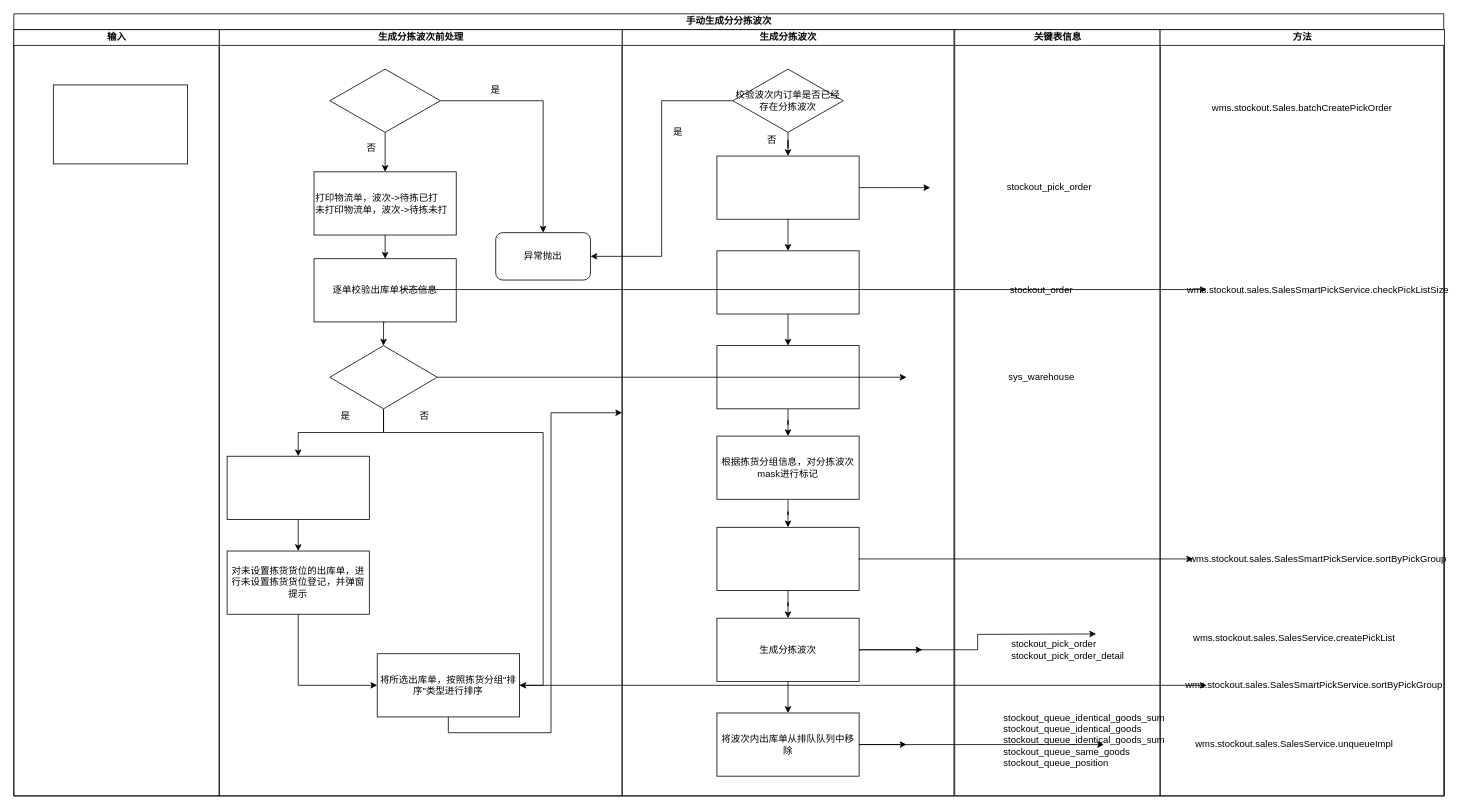
Some shapes in this 1462 by 810 pixel diagram are drawn without their labels. Each missing label, with the centre of its shape:
1. 出库单id列表 2. 仓库id 3. 拣货数量 4. 拣货员id 5. 货区id 6. 是否允许排队中单据 7. 是否打印了物流单: point (120, 124)
出库单拣货员、状态、拣货序号、波次序号、备注的填充: point (787, 377)
分拣波次拣货时间、拣货员的填充: point (787, 282)
将出库单列表按照拣货分组的“排序”类型进行排序: point (787, 559)
是否开智能拣货: point (383, 377)
根据所选出库单数量·，校验是否超出最大波次大小: point (384, 100)
自动生成波次序号: point (787, 187)
选出一个可以包含所有出库单货品的货区，用作波次货区: point (297, 487)
